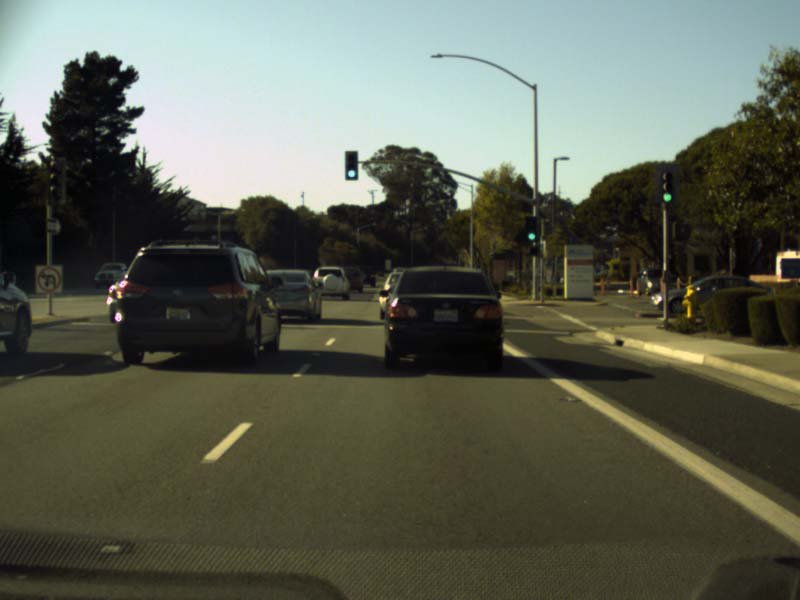Green: (662, 170, 673, 202), (345, 151, 357, 179), (525, 216, 536, 239)
